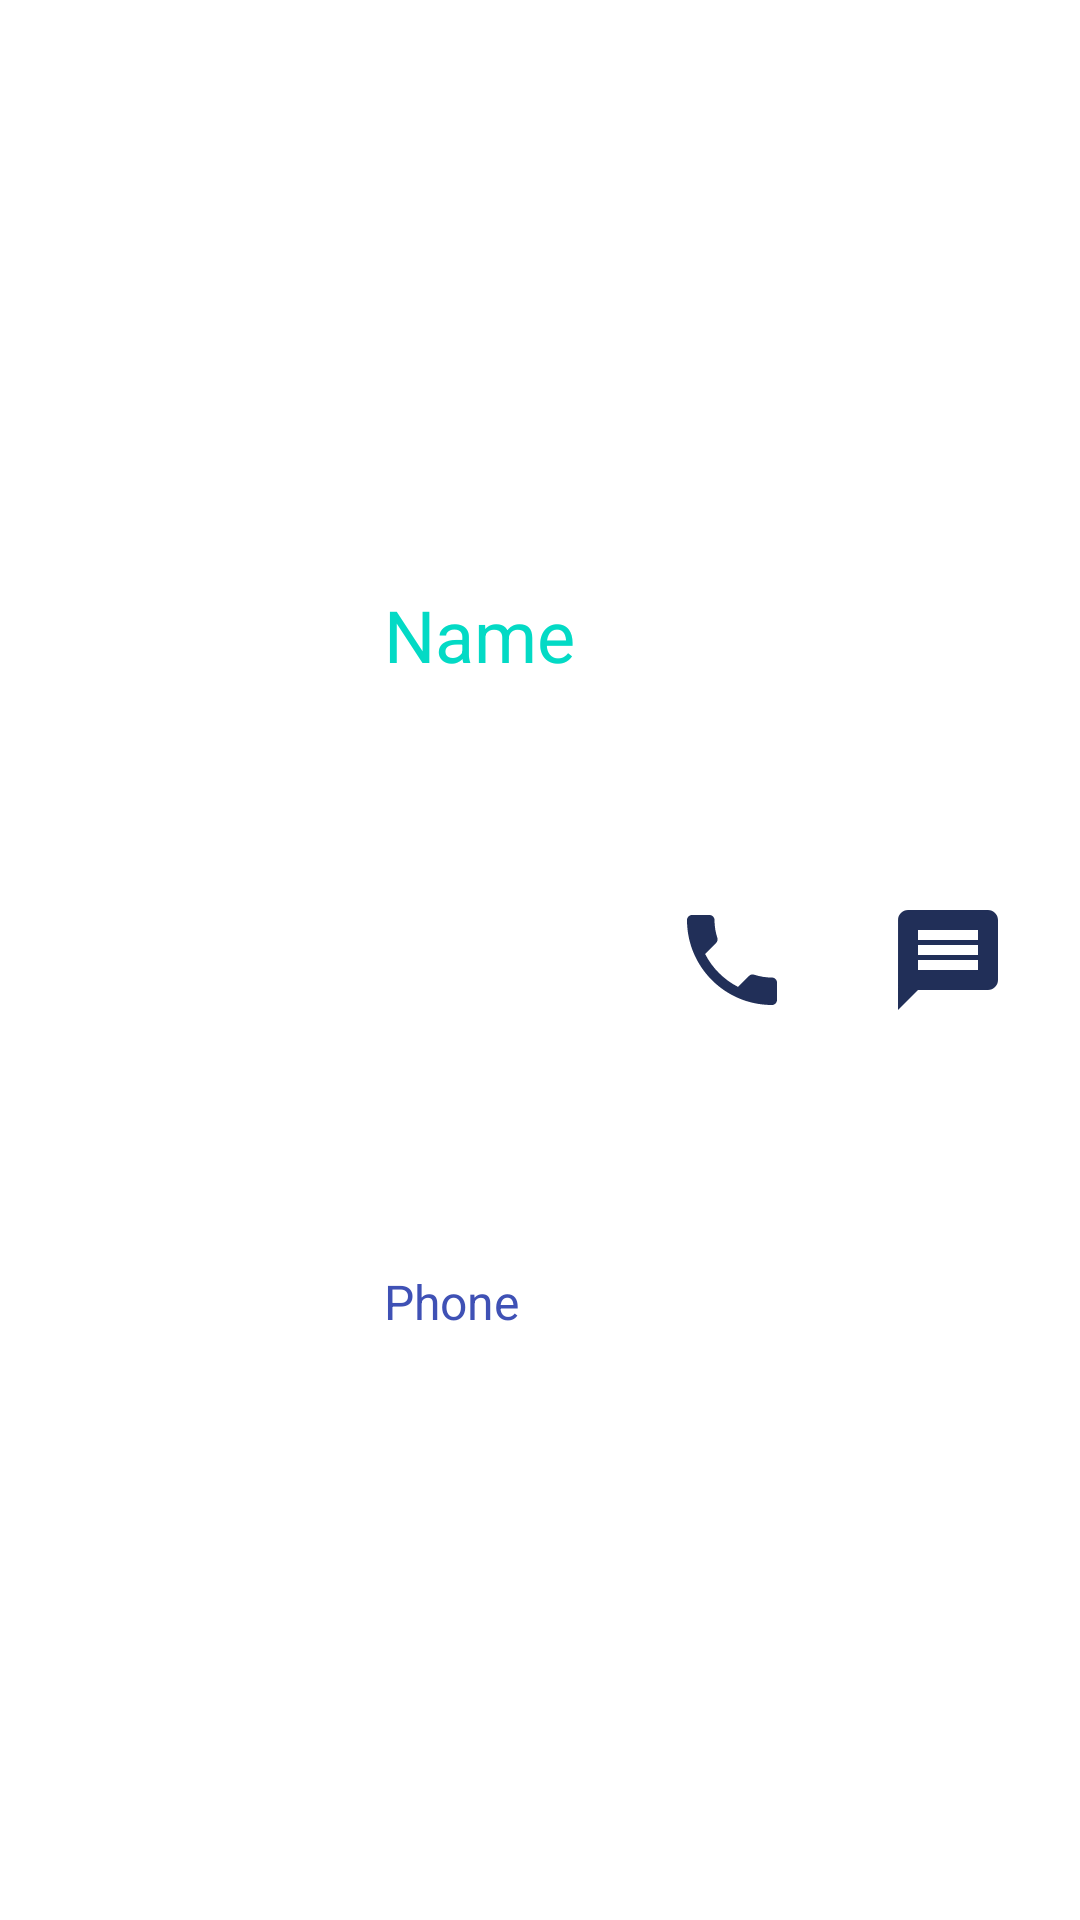

Screen size 1080 × 1920. Icon name, then its box in pixels as bbox=(x1, y1, x2, y2):
message: bbox=(898, 910, 998, 1010)
phone: bbox=(687, 915, 777, 1005)
